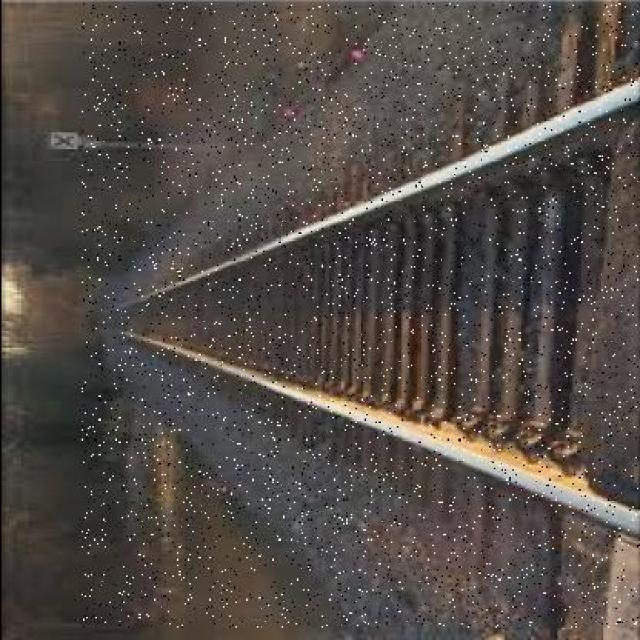rail: (80, 3, 637, 627)
